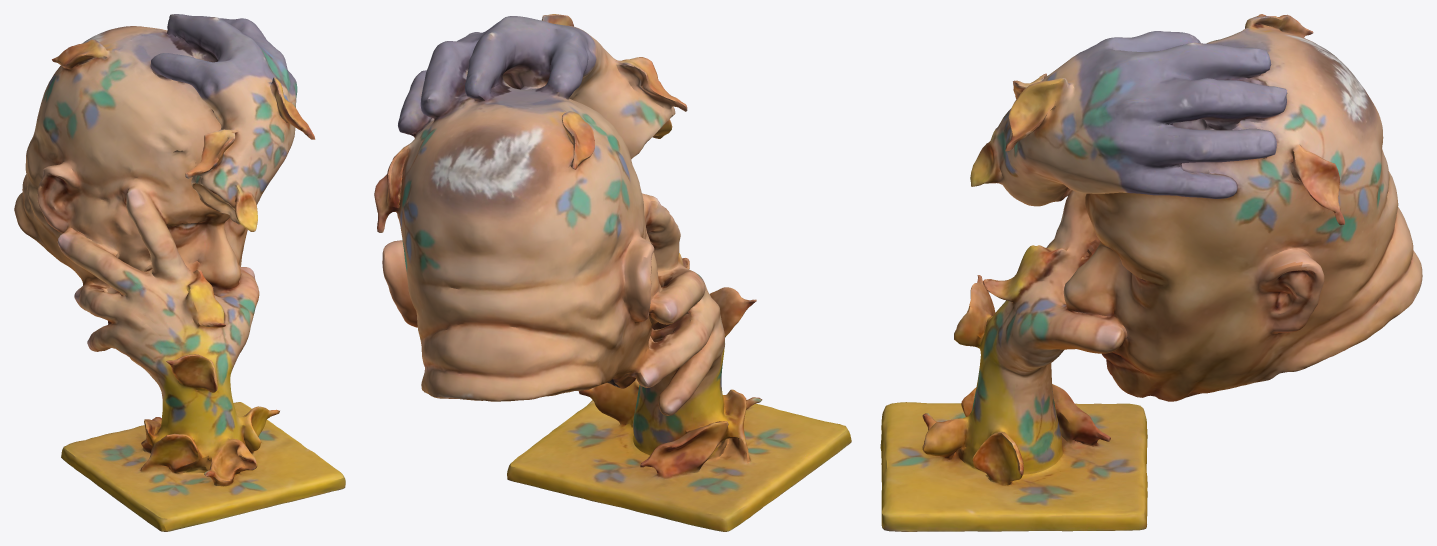
File: head-e.glb
The picture shows the model from 3 angles, left to right: view 1: azimuth 30°, elevation 25°; view 2: azimuth 150°, elevation 25°; view 3: azimuth 270°, elevation 25°; orthographic projection. The views are drawn at different scales.
Visible parts, largest first — view 1: HeadE_LOW; view 2: HeadE_LOW; view 3: HeadE_LOW.
Part boxes in pixels (x1,y1,x2,y2): HeadE_LOW: (14,14,345,531); HeadE_LOW: (374,14,851,531); HeadE_LOW: (880,14,1422,531).
Bounding box in the file's own units: 0.3269 × 0.5 × 0.5088.
1 material, 1 textured.
